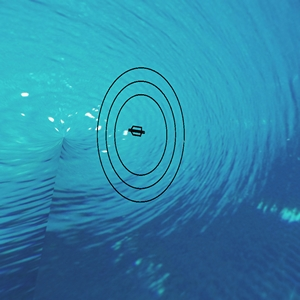submarine: (130, 121, 145, 139)
